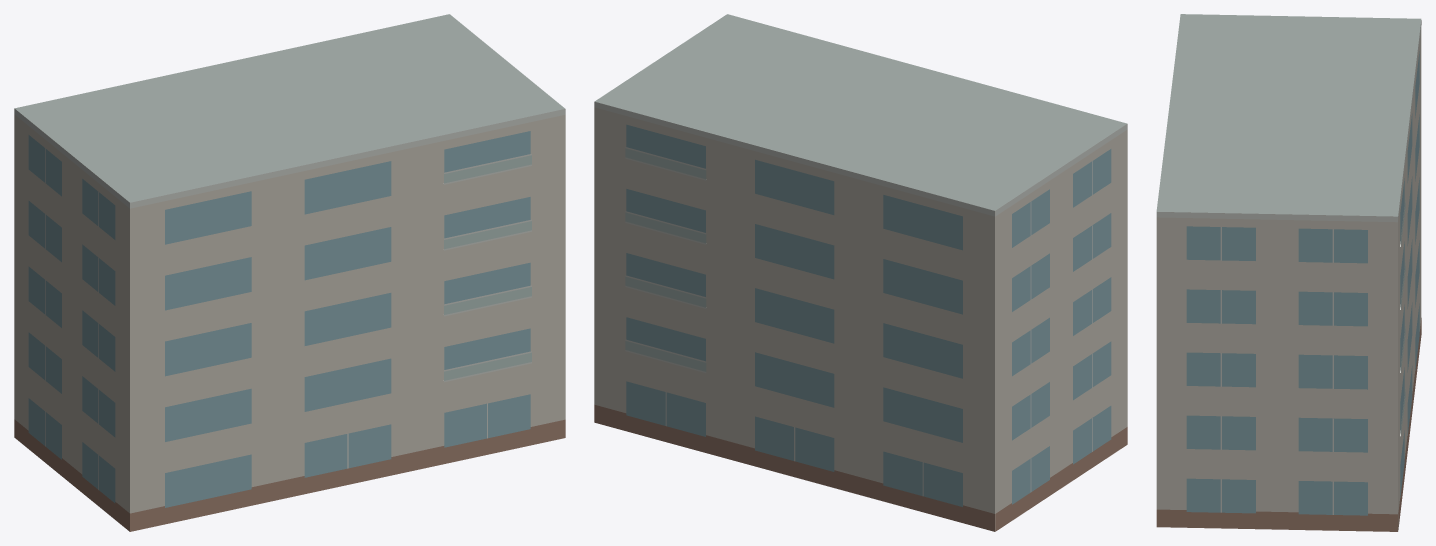
Rendered from survey-upis-32747843.glb.
3 renders of one model, left to right at view 1: azimuth 30°, elevation 25°; view 2: azimuth 150°, elevation 25°; view 3: azimuth 270°, elevation 25°, orthographic. The views are drawn at different scales.
Visible parts, largest first — view 1: survey-upis-32747843.tmp; view 2: survey-upis-32747843.tmp; view 3: survey-upis-32747843.tmp.
Boxes of the visible parts, box(x1,y1,x2,y2) form: survey-upis-32747843.tmp: box(14, 14, 565, 531); survey-upis-32747843.tmp: box(594, 14, 1127, 531); survey-upis-32747843.tmp: box(1156, 14, 1421, 531).
Size of the model in its own units: 18.74 by 13.6 by 10.37.
